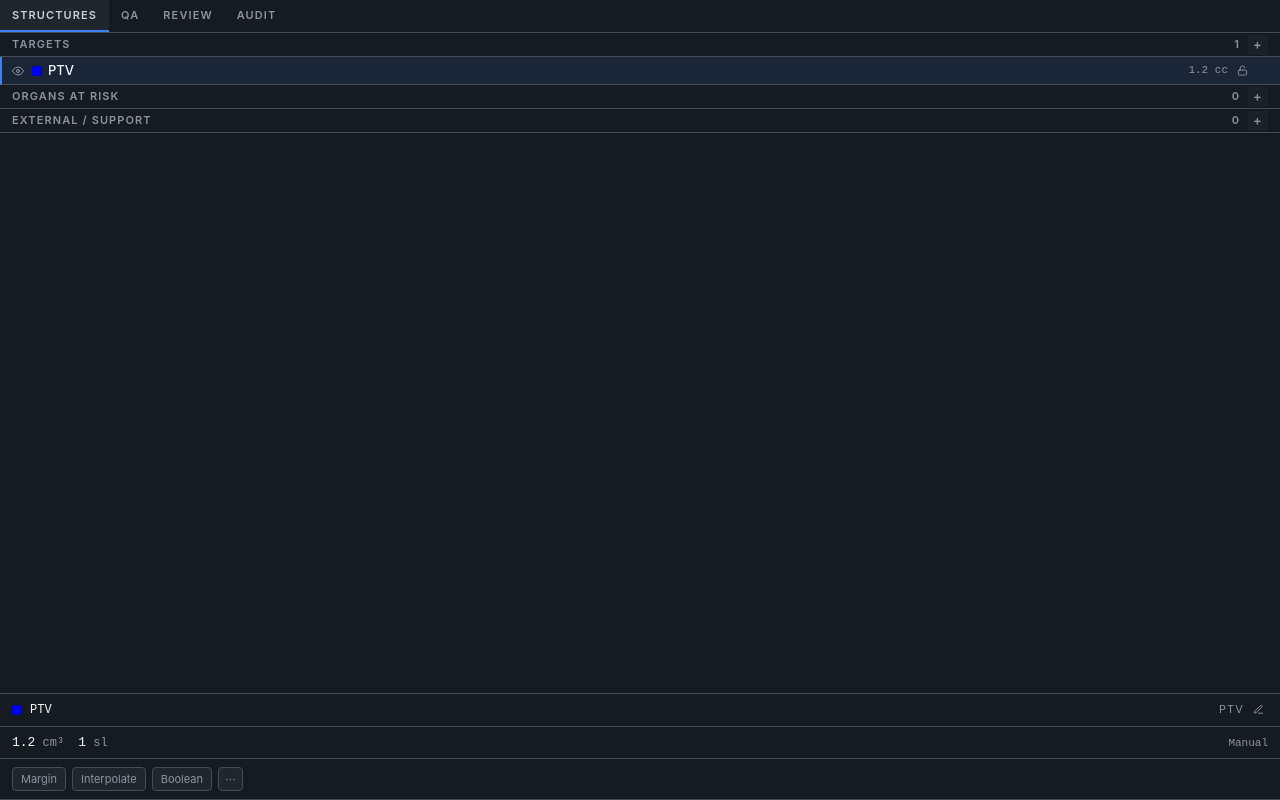
Test case: StructurePanel local draft and structure editing interactions › applies a positive margin to the active structure @links:SRS-014 @testing:T8
The image size is (1280, 800).
Click the button "Margin": x=39, y=779 [12,767,66,791]
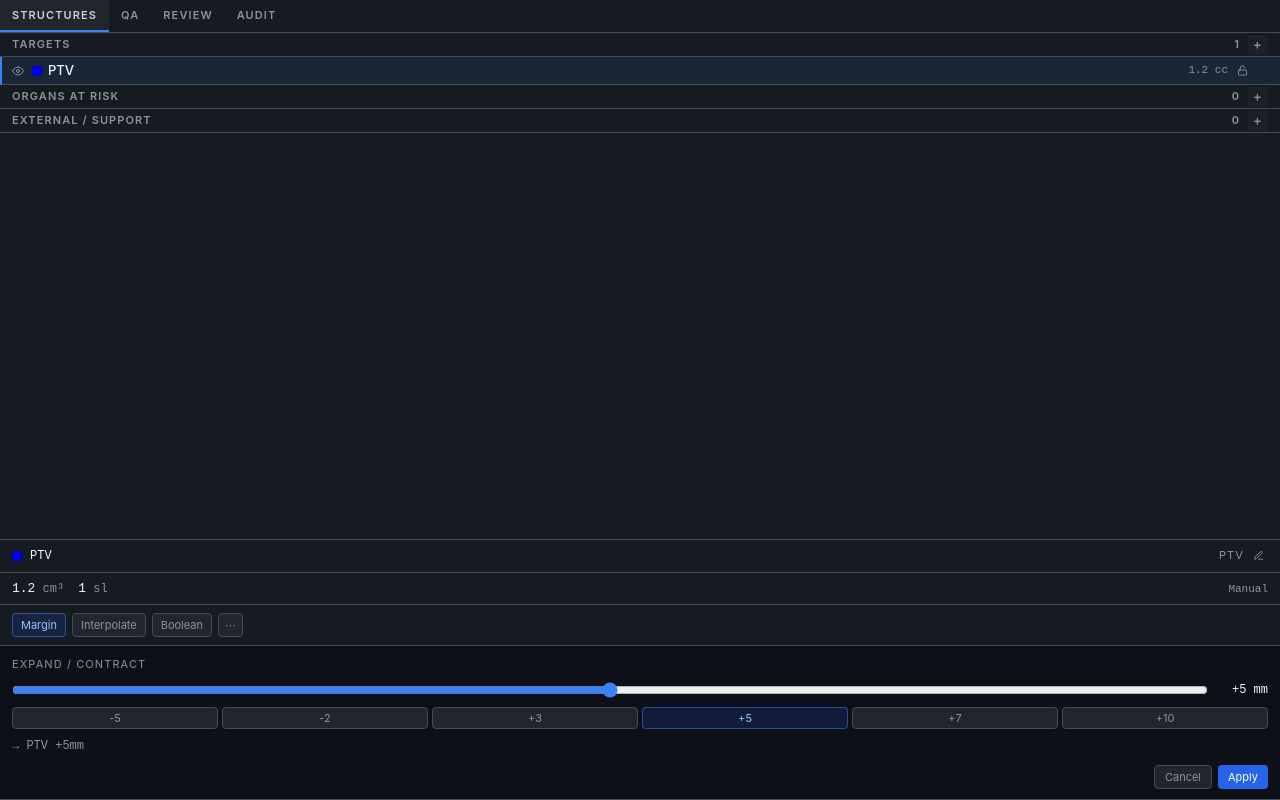
Set the slider named "Margin value" to "2": x=492, y=690 [12,682,1208,698]
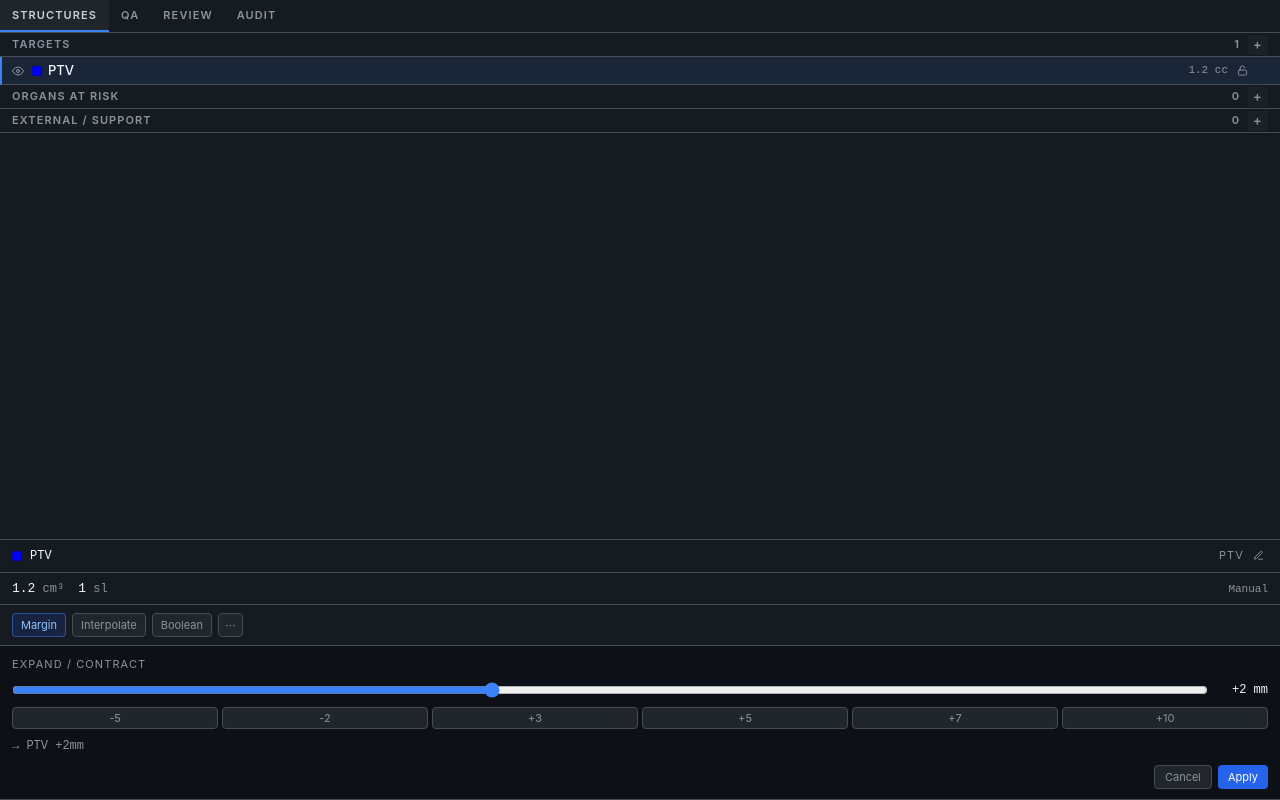
Click the button "Apply": x=1243, y=777 [1218,765,1268,789]
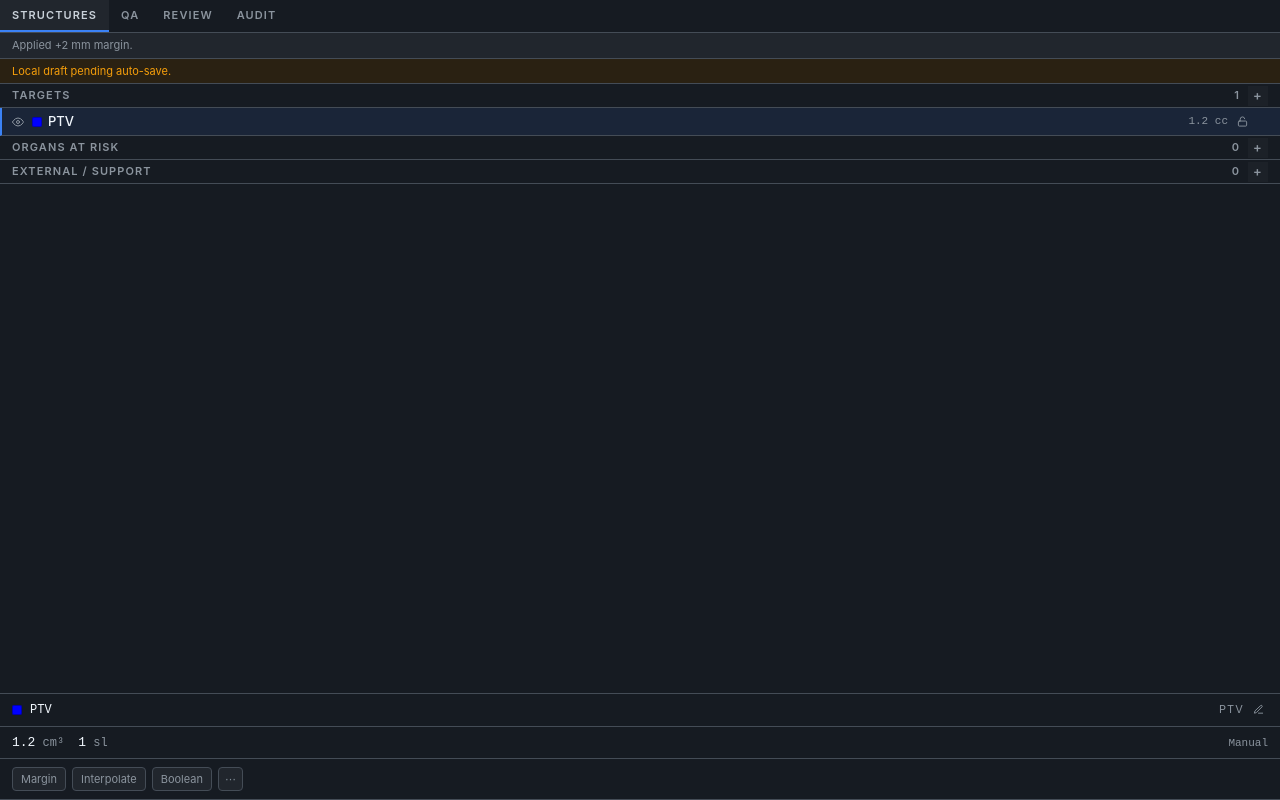
Check: the text "Applied +2 mm margin." is shown, box [0,33,1279,58]
